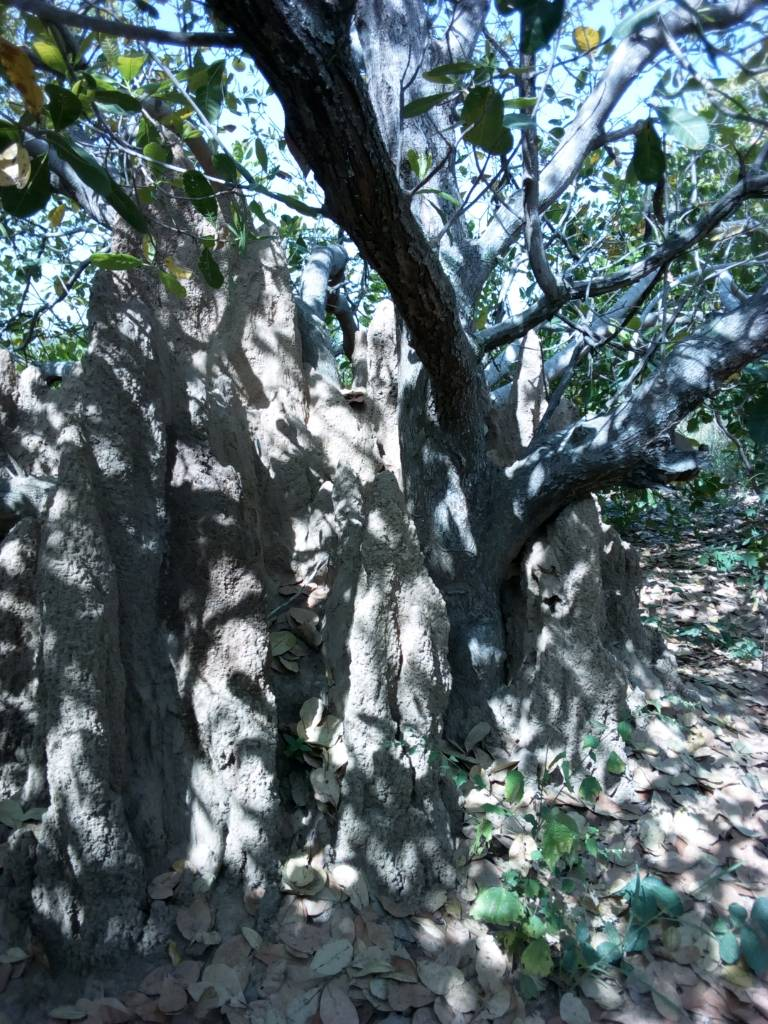Termites: (208, 299, 432, 857), (7, 366, 175, 886), (530, 555, 636, 708)
